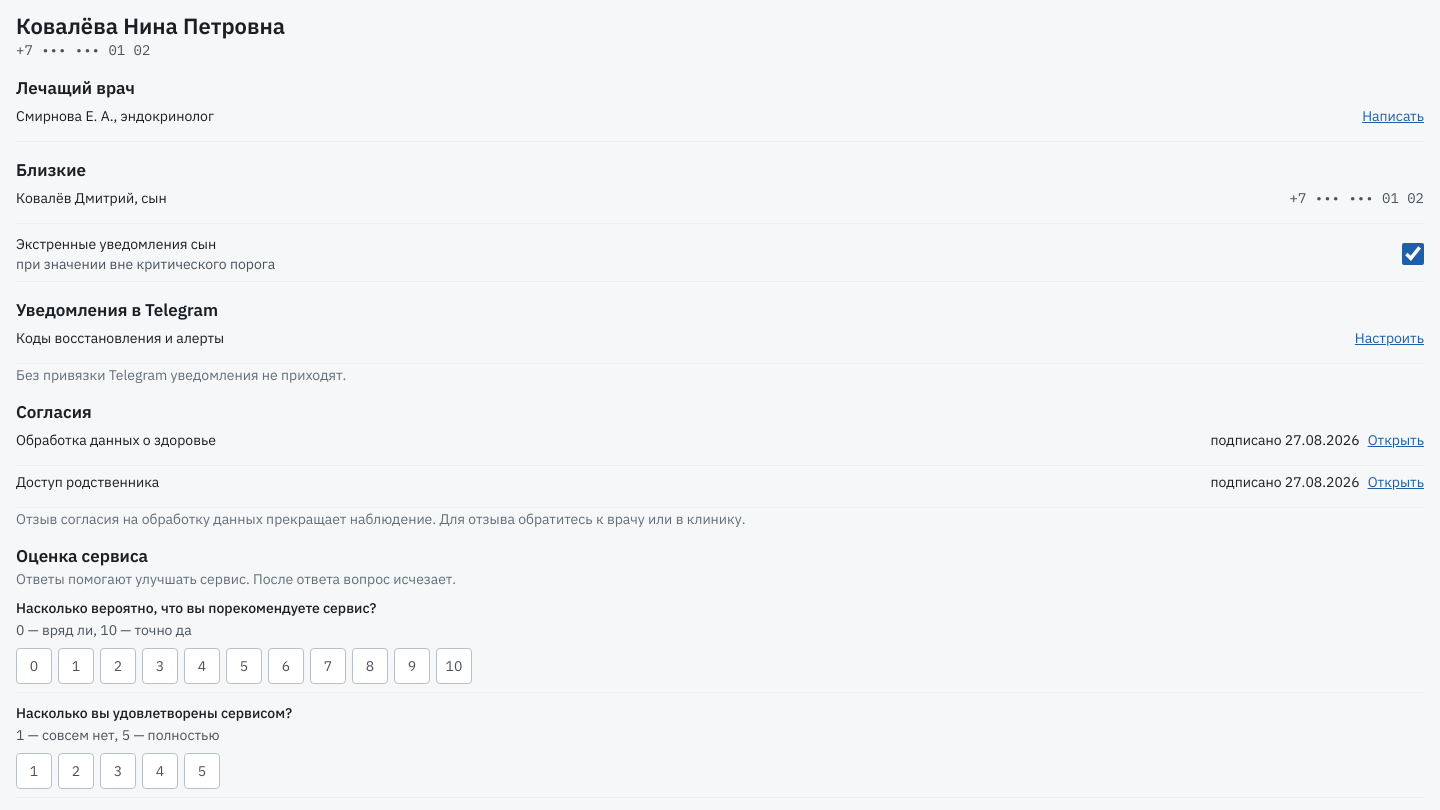
Test: PatientProfile › показывает ошибку, если опрос не сохранился
The image size is (1440, 810).
Click the button "10". click: click(454, 666)
box: [436,648,472,684]
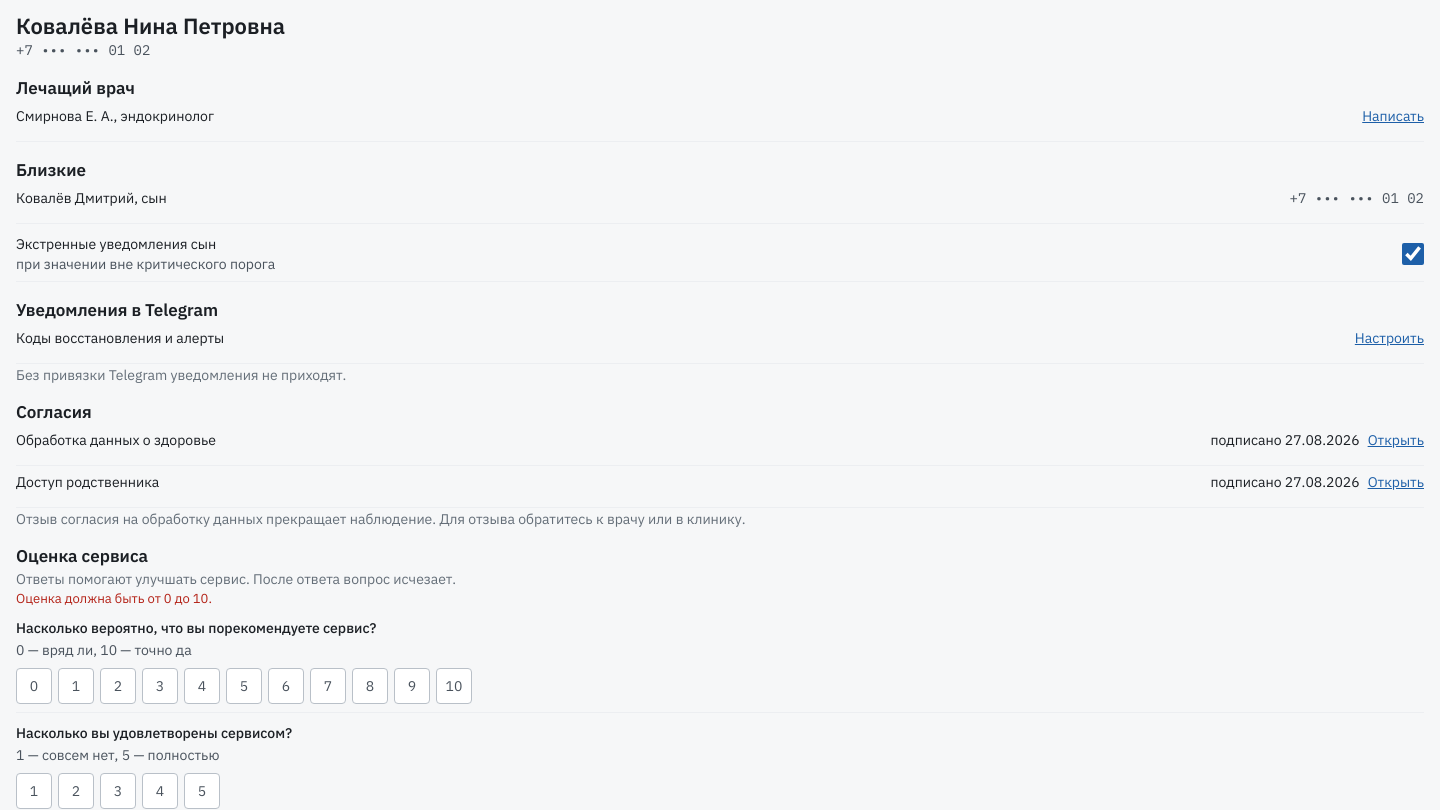
Check: the message shows "Оценка должна быть от 0 до 10", box [16,590,212,607]
